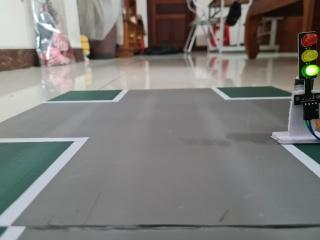green: (286, 22, 320, 88)
